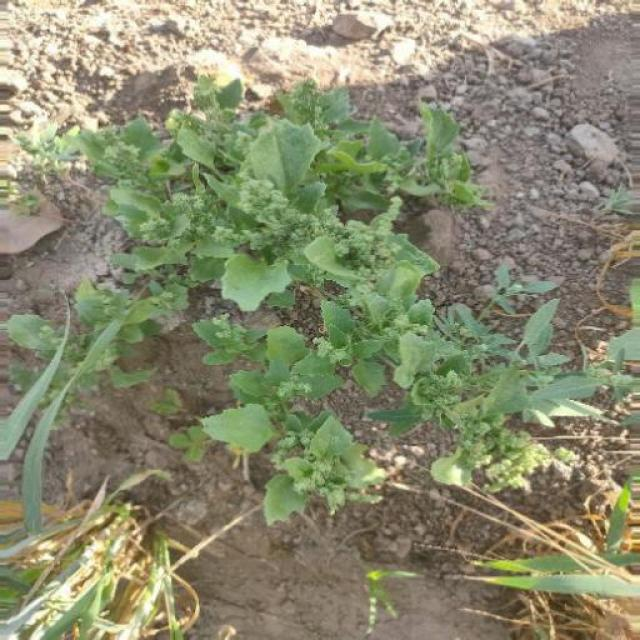weed: (28, 50, 550, 484)
